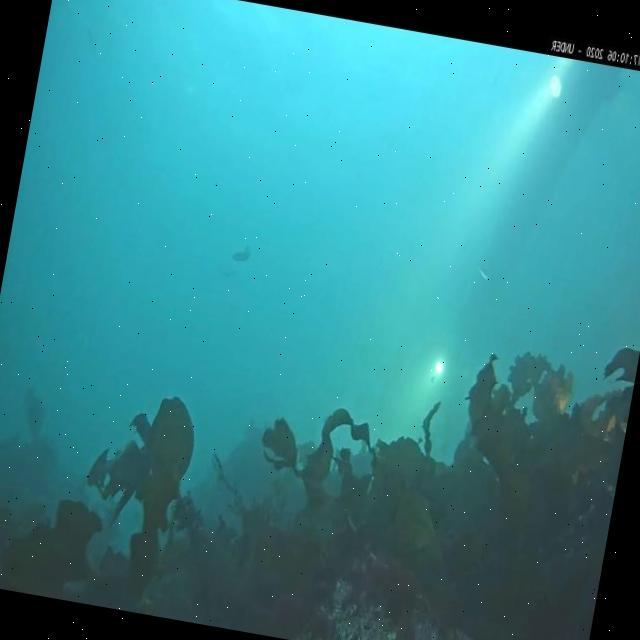fish: (232, 243, 252, 265)
